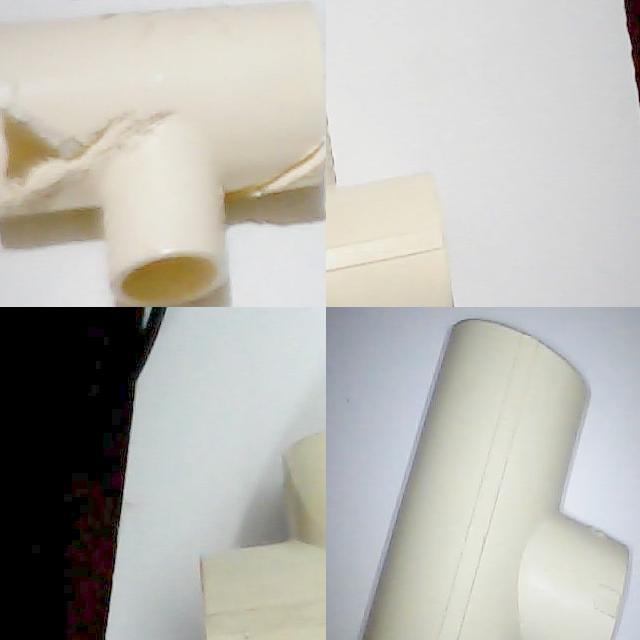Defective: (0, 76, 104, 218), (231, 136, 326, 218)
T Joint: (0, 2, 326, 304), (355, 320, 633, 640), (200, 432, 326, 640), (326, 113, 455, 307)
